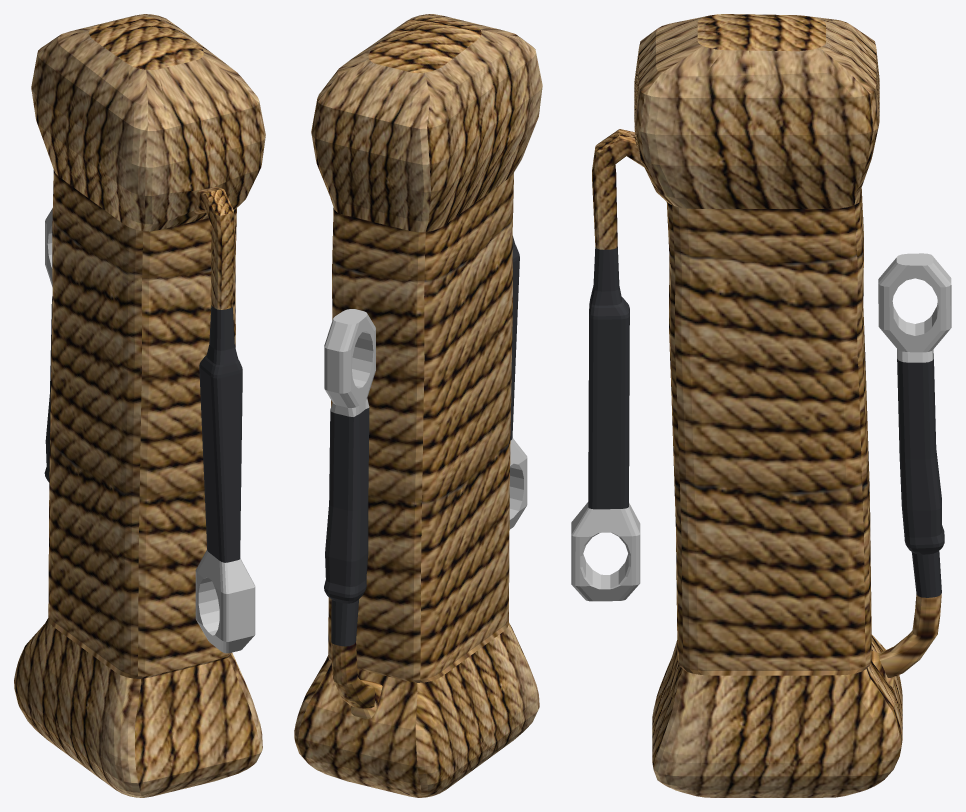
File: RopeTan.fbx
3 renders of one model, left to right at view 1: azimuth 30°, elevation 25°; view 2: azimuth 150°, elevation 25°; view 3: azimuth 270°, elevation 25°, orthographic. The views are drawn at different scales.
Parts seen in each view (by area): view 1: Cube; view 2: Cube; view 3: Cube.
Boxes of the visible parts, <box> form: Cube: <box>14,14,265,797</box>; Cube: <box>294,14,542,797</box>; Cube: <box>571,14,951,797</box>.
Bounding box in the file's own units: 0.1478 × 0.6977 × 0.3218.
